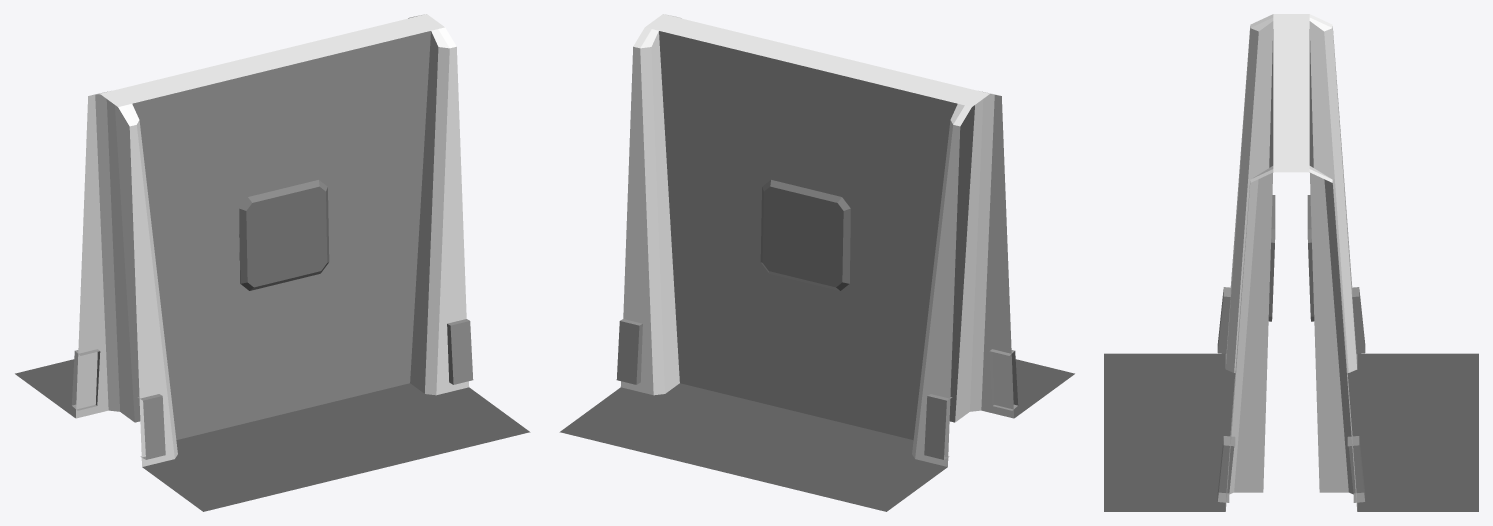
Rendered from I_Wall_Straight_4.fbx.
3 renders of one model, left to right at view 1: azimuth 30°, elevation 25°; view 2: azimuth 150°, elevation 25°; view 3: azimuth 270°, elevation 25°, orthographic.
Parts seen in each view (by area): view 1: I_Wall_Straight_4; view 2: I_Wall_Straight_4; view 3: I_Wall_Straight_4.
Part boxes in pixels (box(x1,y1,x2,y2)): I_Wall_Straight_4: box(15, 14, 530, 511); I_Wall_Straight_4: box(559, 14, 1074, 511); I_Wall_Straight_4: box(1104, 14, 1478, 511).
Size of the model in its own units: 200 by 200 by 200.
